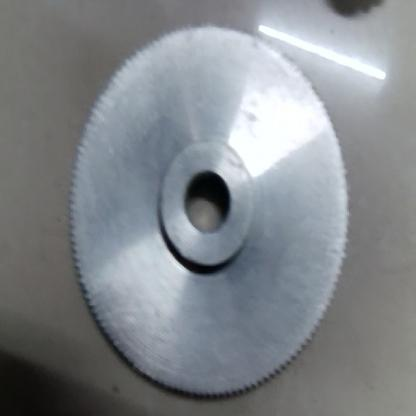FOD: (71, 18, 357, 403)
